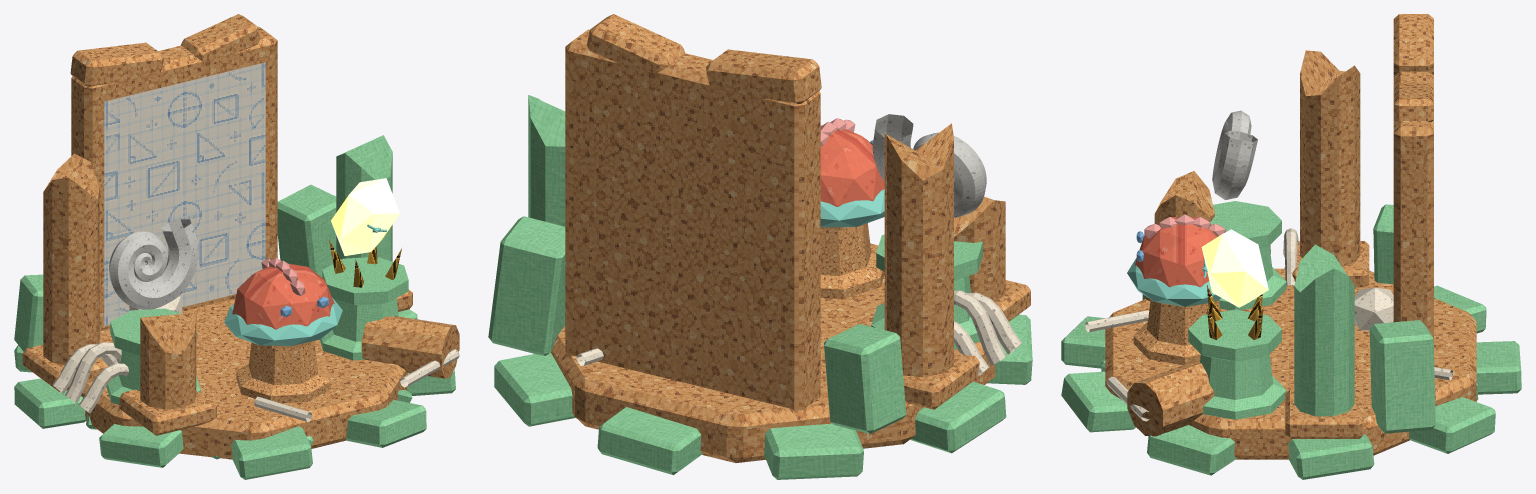
File: fossil.glb
The picture shows the model from 3 angles, left to right: view 1: azimuth 30°, elevation 25°; view 2: azimuth 150°, elevation 25°; view 3: azimuth 270°, elevation 25°; orthographic projection. The views are drawn at different scales.
Visible parts, largest first — view 1: Ruins, Relief, Dome, Helix, Amber, Claws; view 2: Ruins, Dome, Helix; view 3: Ruins, Dome, Amber, Helix, Claws.
Boxes of the visible parts, box(x1,y1,x2,y2) form: Ruins: box(14, 14, 459, 479); Relief: box(104, 62, 265, 326); Dome: box(224, 258, 342, 345); Helix: box(109, 219, 198, 309); Amber: box(331, 178, 399, 255); Claws: box(329, 240, 401, 287); Ruins: box(488, 14, 1032, 479); Dome: box(820, 118, 884, 227); Helix: box(872, 114, 986, 217); Ruins: box(1061, 14, 1521, 479); Dome: box(1127, 214, 1225, 306); Amber: box(1201, 229, 1268, 307); Helix: box(1212, 110, 1257, 200); Claws: box(1207, 285, 1263, 339).
Bounding box in the file's own units: 4.17 × 3.3 × 4.12.
Materials: 12 (7 with a texture image).
